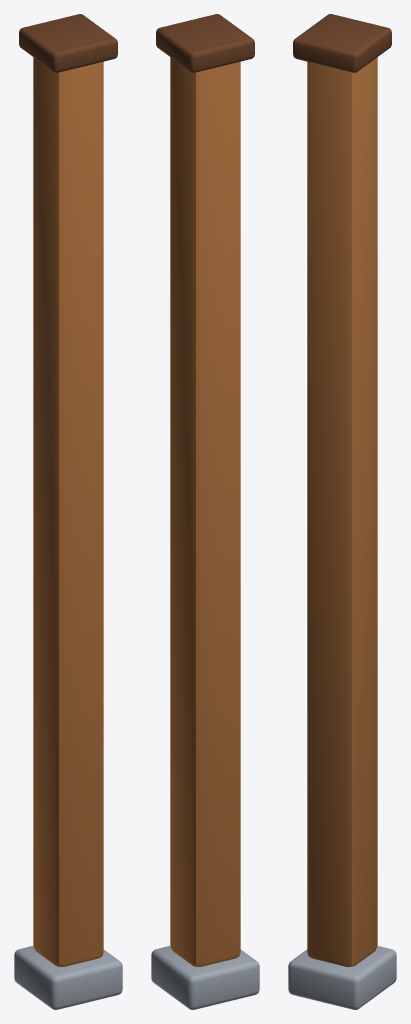
File: coluna_madeira.glb
3 renders of one model, left to right at view 1: azimuth 30°, elevation 25°; view 2: azimuth 210°, elevation 25°; view 3: azimuth 330°, elevation 25°, orthographic.
Parts seen in each view (by area): view 1: coluna_madeira; view 2: coluna_madeira; view 3: coluna_madeira.
Boxes of the visible parts, x1=… form: coluna_madeira: x1=14, y1=14, x2=122, y2=1009; coluna_madeira: x1=151, y1=14, x2=259, y2=1009; coluna_madeira: x1=288, y1=14, x2=396, y2=1009.
Size of the model in its own units: 0.22 by 2.82 by 0.22.
Materials: 1 (1 with a texture image).
